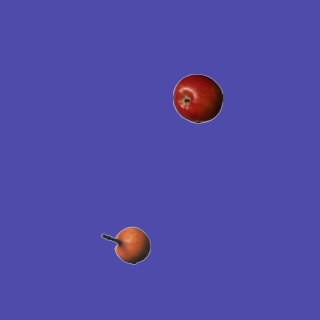Apple Braeburn: (172, 73, 222, 123)
Granadilla: (100, 220, 150, 270)
